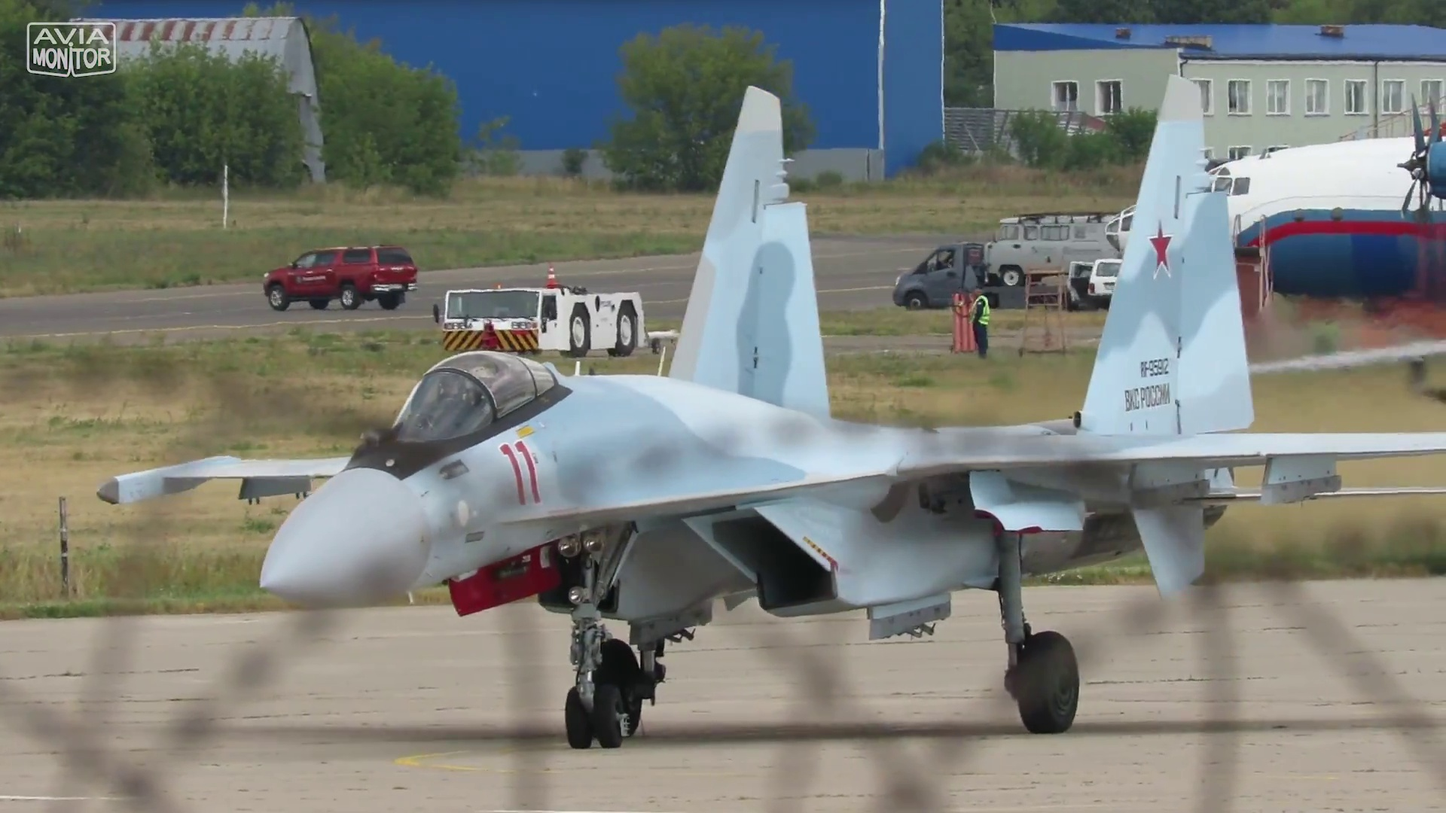Su35: (90, 74, 1446, 754)
